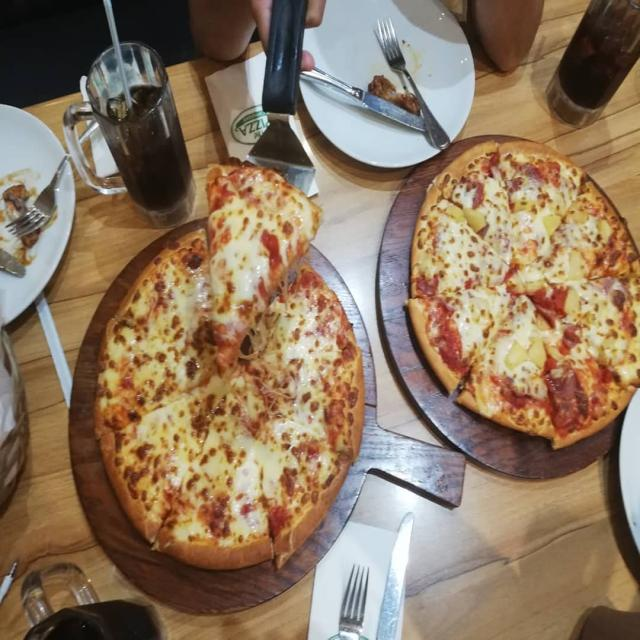pepperoni: (544, 367, 590, 426), (530, 282, 570, 326), (514, 161, 546, 181), (469, 184, 488, 208), (418, 276, 440, 296), (563, 326, 579, 353)
pizza: (95, 164, 364, 568), (409, 140, 640, 448)
